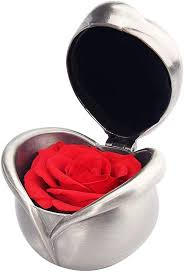lale: (22, 133, 147, 223)
